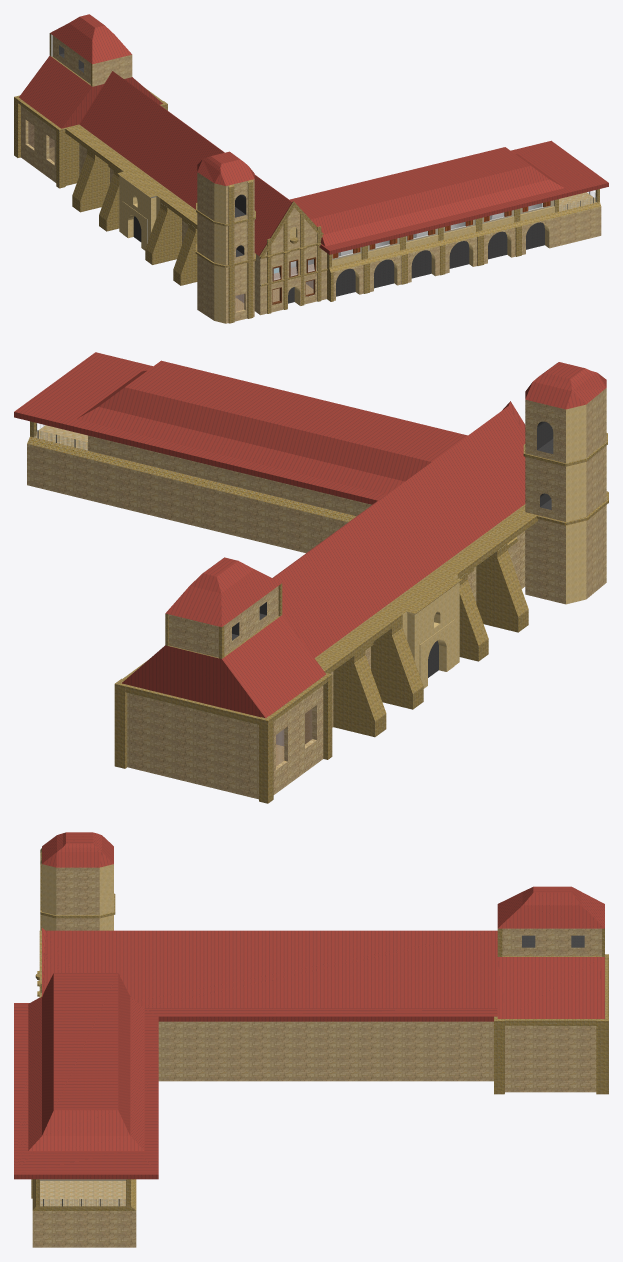
File: albayrealitystjohnchurch.glb
3 renders of one model, top to bottom at view 1: azimuth 30°, elevation 25°; view 2: azimuth 150°, elevation 25°; view 3: azimuth 270°, elevation 25°, orthographic. The views are drawn at different scales.
Visible parts, largest first — view 1: _(Loose Entity); view 2: _(Loose Entity); view 3: _(Loose Entity).
Boxes of the visible parts, left/top/right/bottom form: _(Loose Entity): left=14, top=14, right=608, bottom=323; _(Loose Entity): left=14, top=352, right=608, bottom=803; _(Loose Entity): left=14, top=832, right=608, bottom=1247.
Bounding box in the file's own units: 46.21 × 17.58 × 49.76.
Materials: 15 (14 with a texture image).
